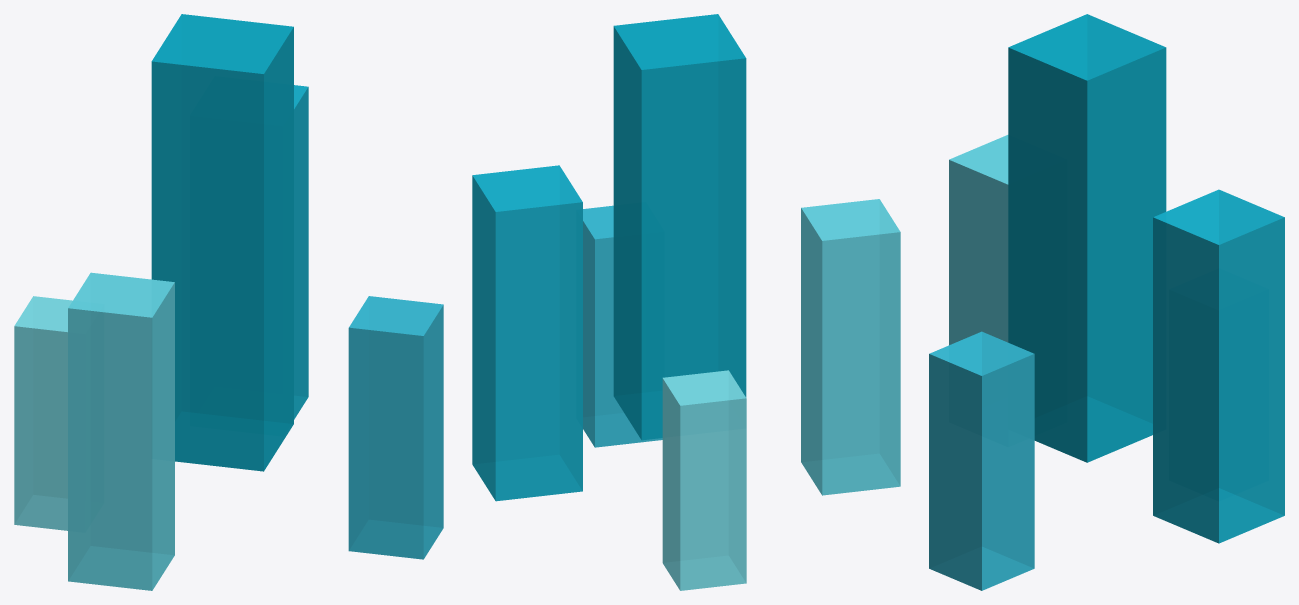
Rendered from buz.glb.
The picture shows the model from 3 angles, left to right: view 1: azimuth 30°, elevation 25°; view 2: azimuth 150°, elevation 25°; view 3: azimuth 270°, elevation 25°; orthographic projection. The views are drawn at different scales.
Bounding box in the file's own units: 0.0305 × 0.04 × 0.027.
